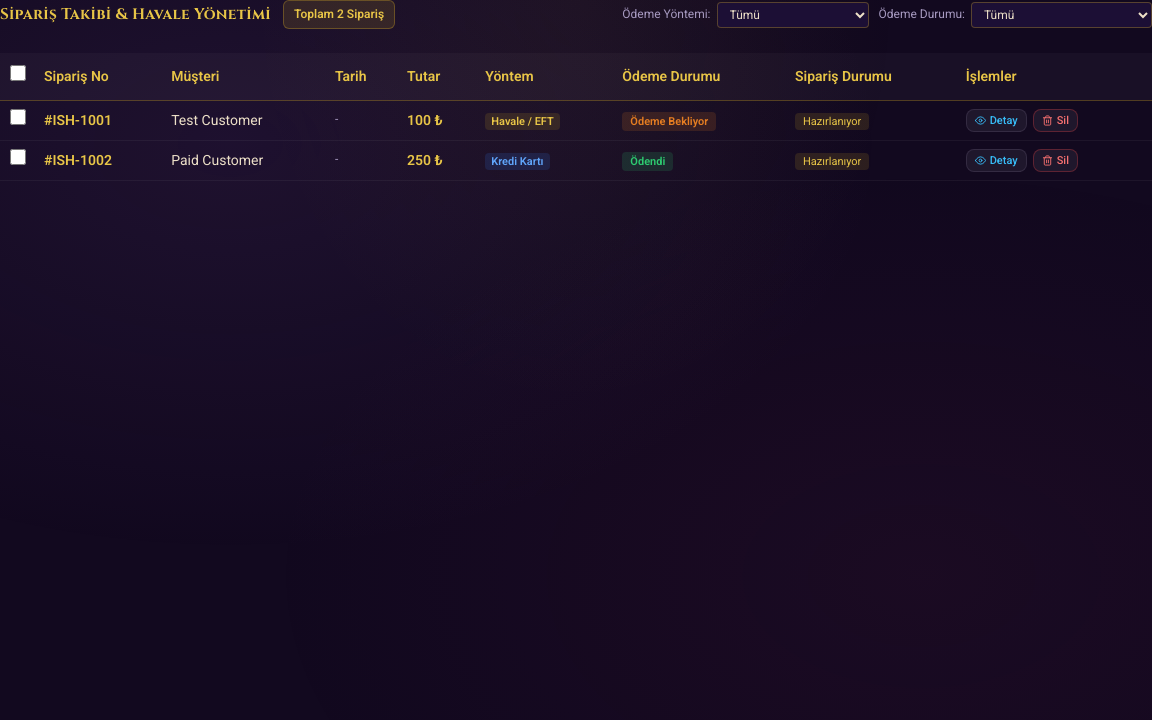
Test: OrdersSection component › supports bulk selection with dynamic count and bulk delete confirmation
Expected: the text "#ISH-1001" is shown, top-left (36, 100), bottom-right (163, 140)
Expected: the text "#ISH-1002" is shown, top-left (36, 140), bottom-right (163, 180)
Note: Select All using header checkbox
Click the checkbox named "Tümünü Seç". click: (18, 73)
box: top-left (10, 65), bottom-right (26, 81)
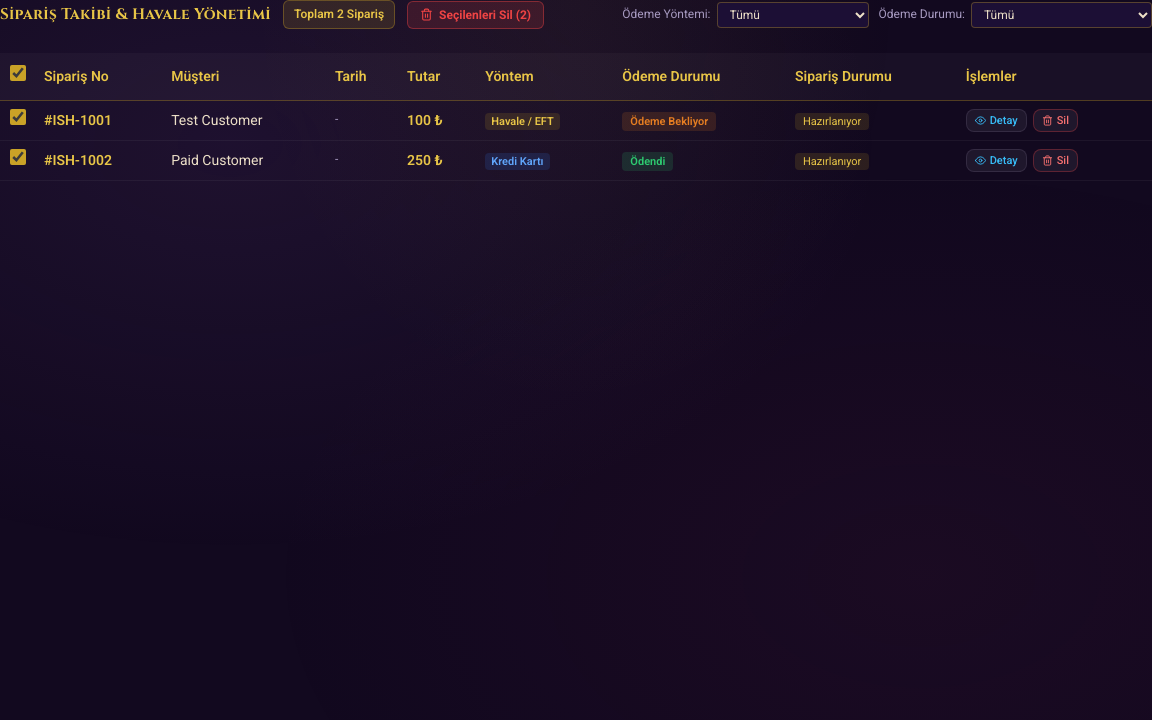
Now the button "Seçilenleri Sil (2)" is shown
Note: Click bulk delete
Click the button "Seçilenleri Sil (2)". click: (476, 15)
box: top-left (407, 1), bottom-right (544, 29)
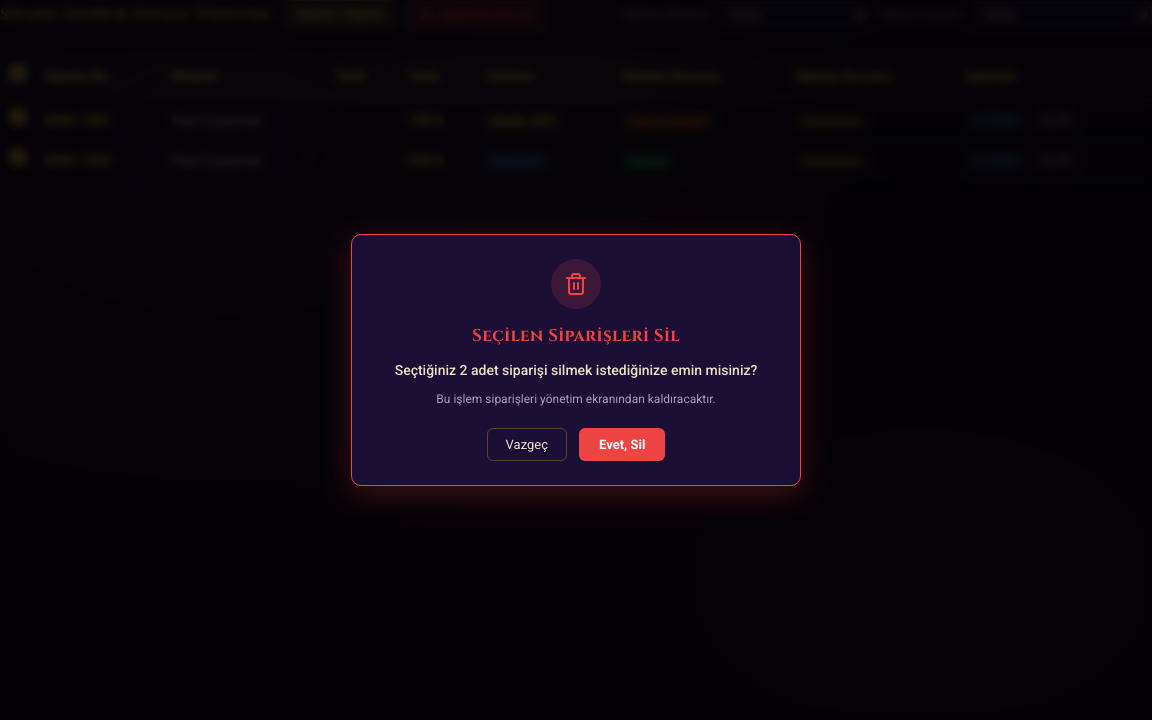
Now the heading "Seçilen Siparişleri Sil" is shown, box top-left (472, 324), bottom-right (680, 346)
Now the text "Seçtiğiniz 2 adet siparişi silmek istediğinize emin misiniz?" is shown, box top-left (376, 359), bottom-right (776, 382)
Note: Confirm deletion
Click the button "Evet, Sil". click: (622, 445)
box: top-left (579, 428), bottom-right (665, 461)
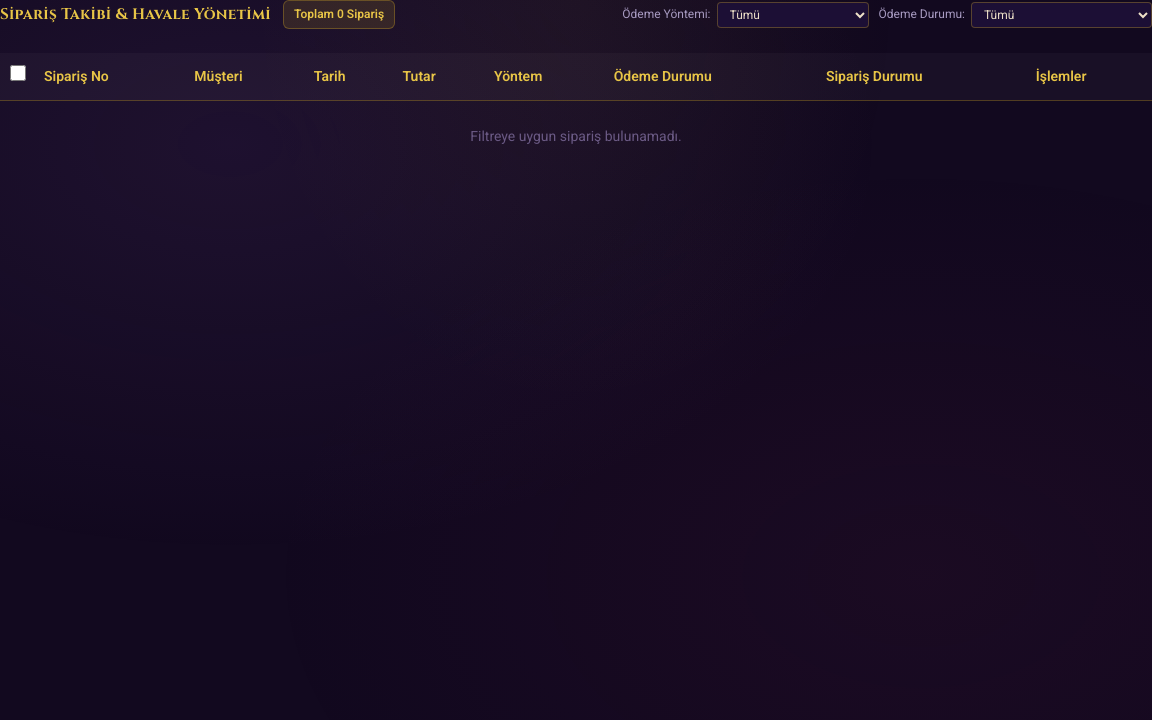
Now the text "#ISH-1001" is gone
Now the text "#ISH-1002" is gone
